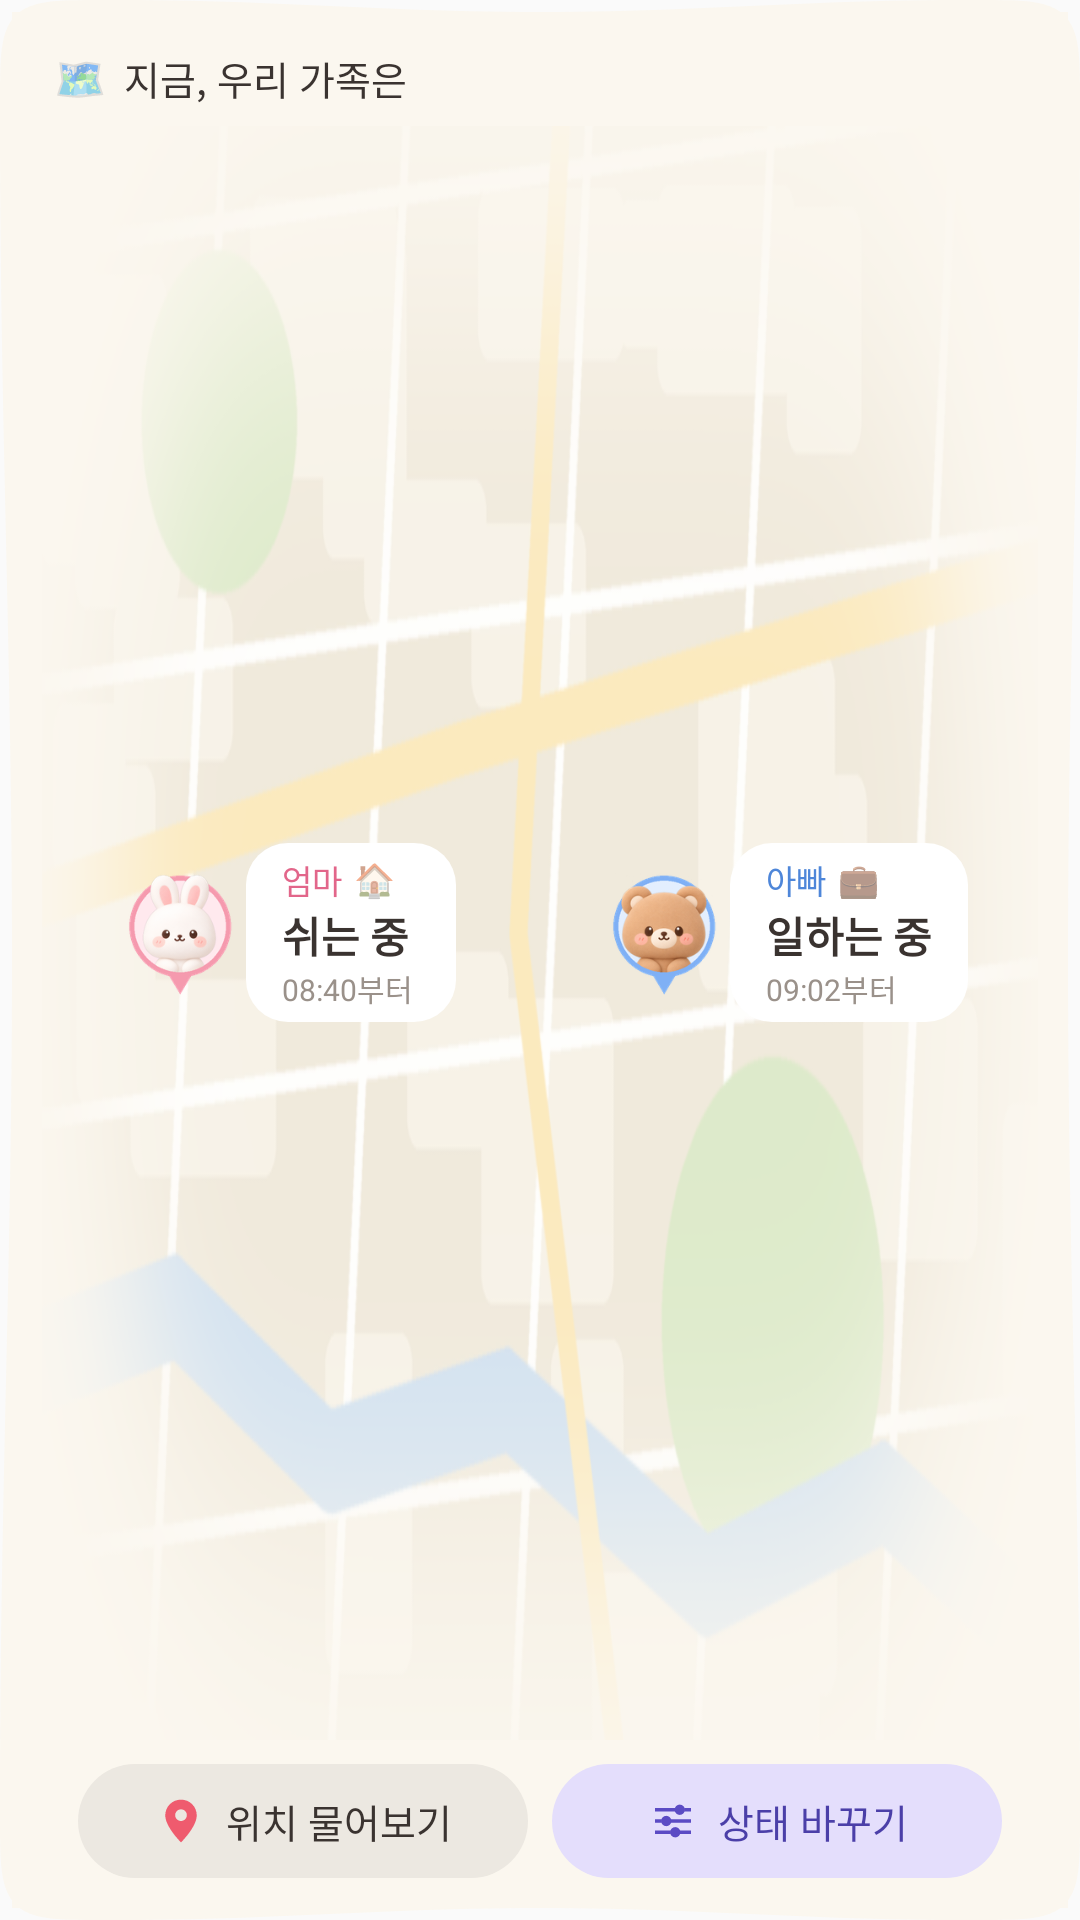

Screen size 1080x1920. Icon name, then its center in pixels as [x,y]:
widget sliders: [673,1821]
